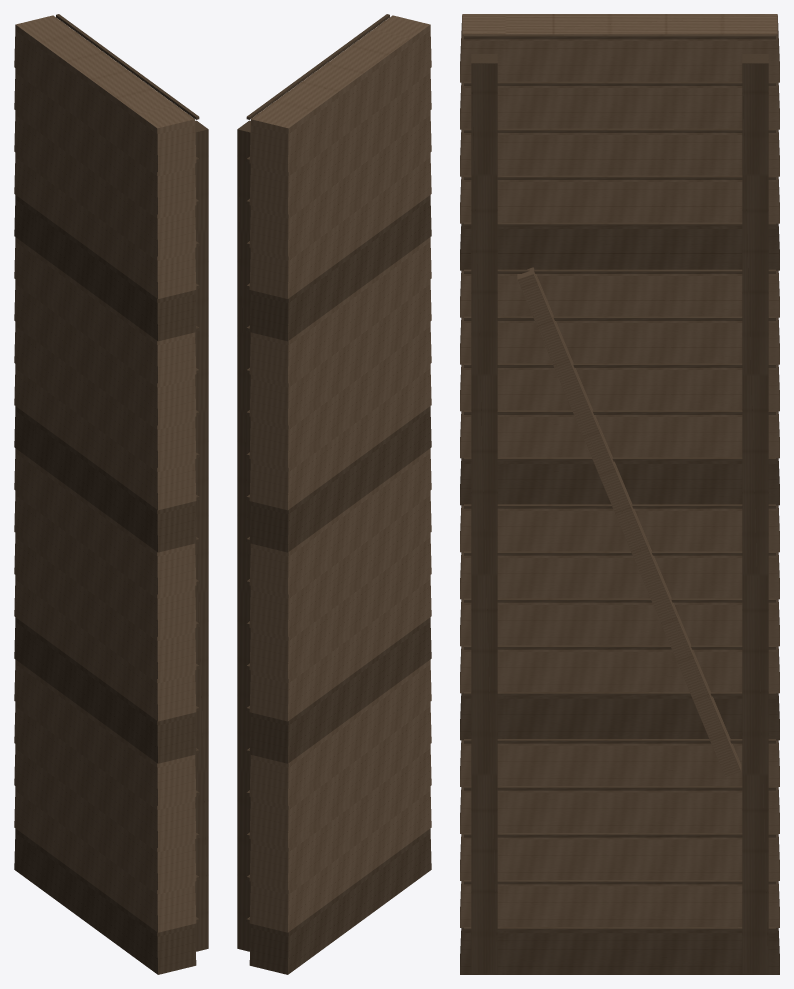
Rendered from village__05__expanded_warehouse__west_side__section_04.glb.
The picture shows the model from 3 angles, left to right: view 1: azimuth 30°, elevation 25°; view 2: azimuth 150°, elevation 25°; view 3: azimuth 270°, elevation 25°; orthographic projection. The views are drawn at different scales.
Visible parts, largest first — view 1: WestSide_Section_04; view 2: WestSide_Section_04; view 3: WestSide_Section_04.
Boxes of the visible parts, left/top/right/bottom form: WestSide_Section_04: left=14, top=14, right=208, bottom=974; WestSide_Section_04: left=237, top=14, right=431, bottom=974; WestSide_Section_04: left=460, top=14, right=779, bottom=974.
Bounding box in the file's own units: 0.3238 × 4.71 × 1.45.
Materials: 2 (2 with a texture image).
